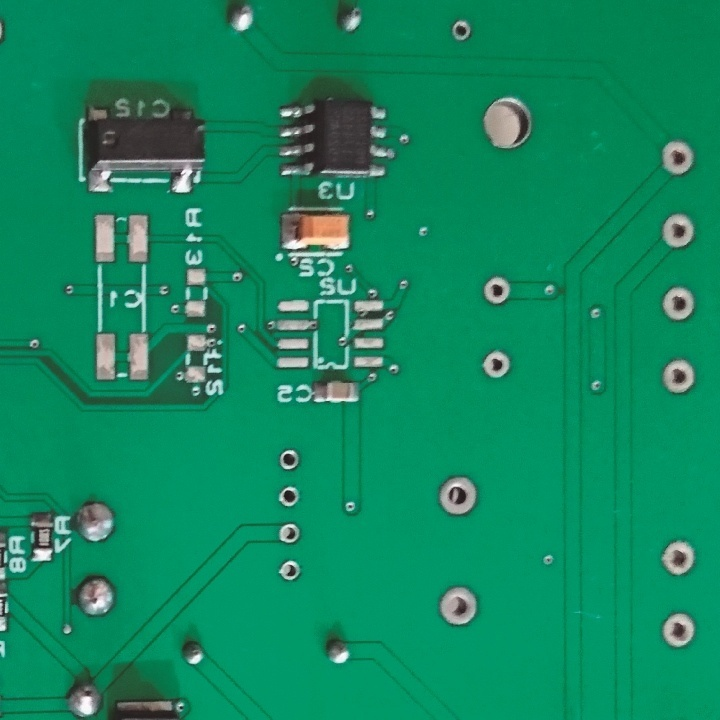F: (435, 471, 483, 518), (656, 535, 704, 580), (435, 582, 480, 629), (660, 606, 701, 651), (654, 285, 700, 323), (659, 211, 701, 252), (659, 355, 699, 398), (657, 137, 696, 177), (481, 270, 513, 311), (479, 348, 513, 383), (275, 518, 304, 549), (447, 15, 475, 45), (276, 556, 304, 586), (277, 482, 304, 511), (277, 444, 301, 474)
